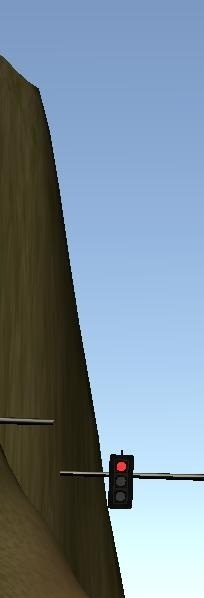Red: (110, 453, 132, 509)
